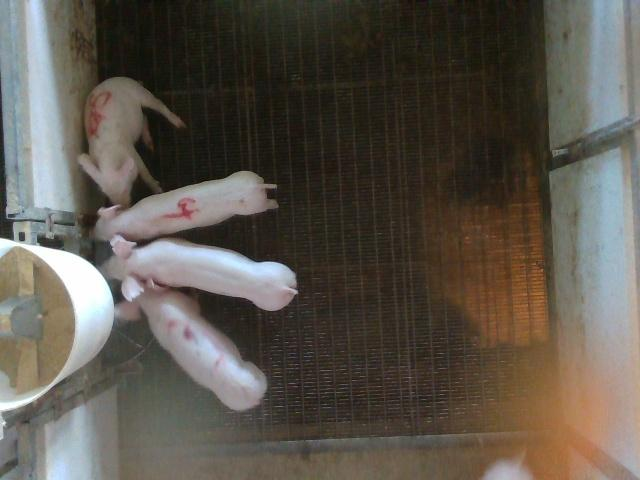pig-3: (115, 286, 266, 411)
pig-4: (94, 171, 279, 241)
pig-5: (78, 78, 184, 207)
